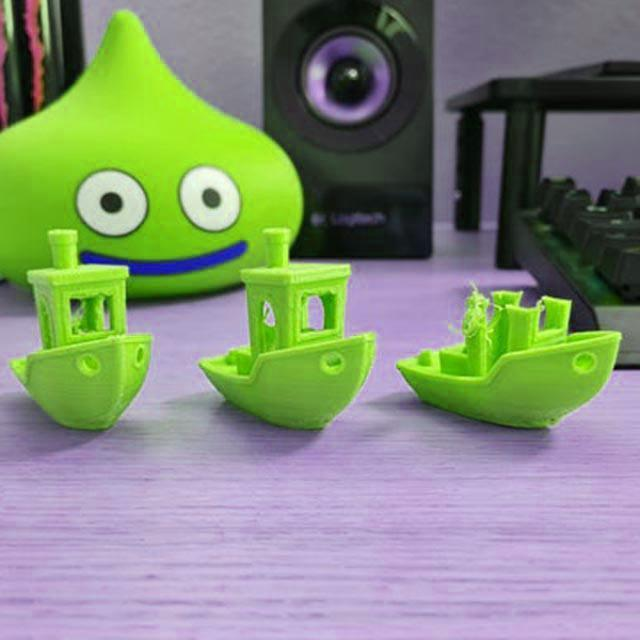spaghetti: (448, 277, 502, 347), (534, 294, 546, 313), (262, 307, 270, 320)
